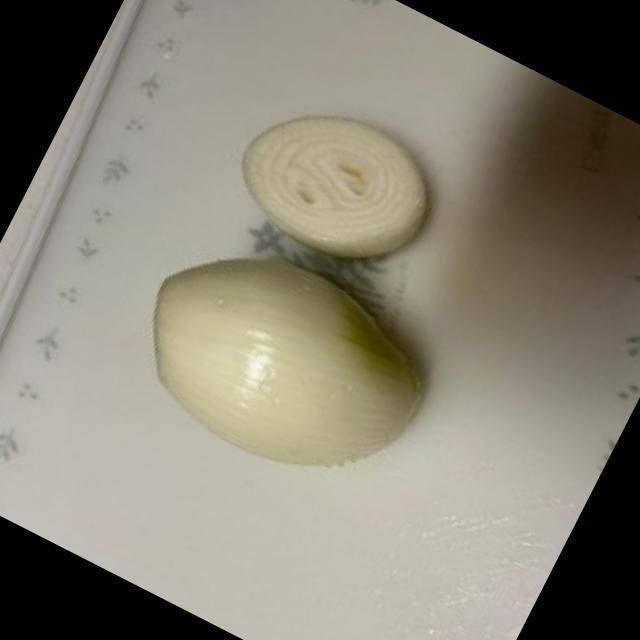Onion: (156, 259, 424, 467), (246, 116, 421, 257)
